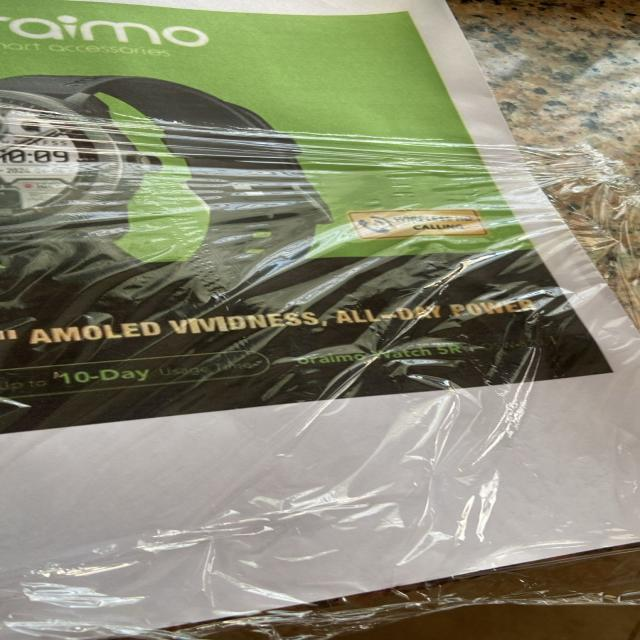Oraimo Watch 5R OSW-820: (294, 334, 569, 370)
